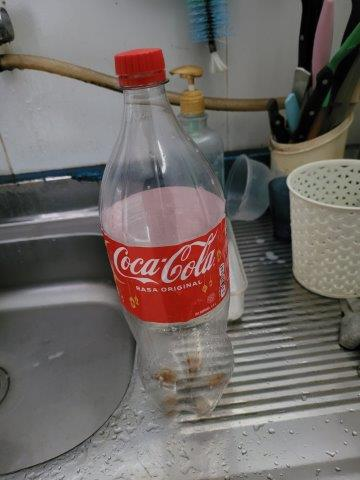botolplastik: (102, 50, 233, 415)
